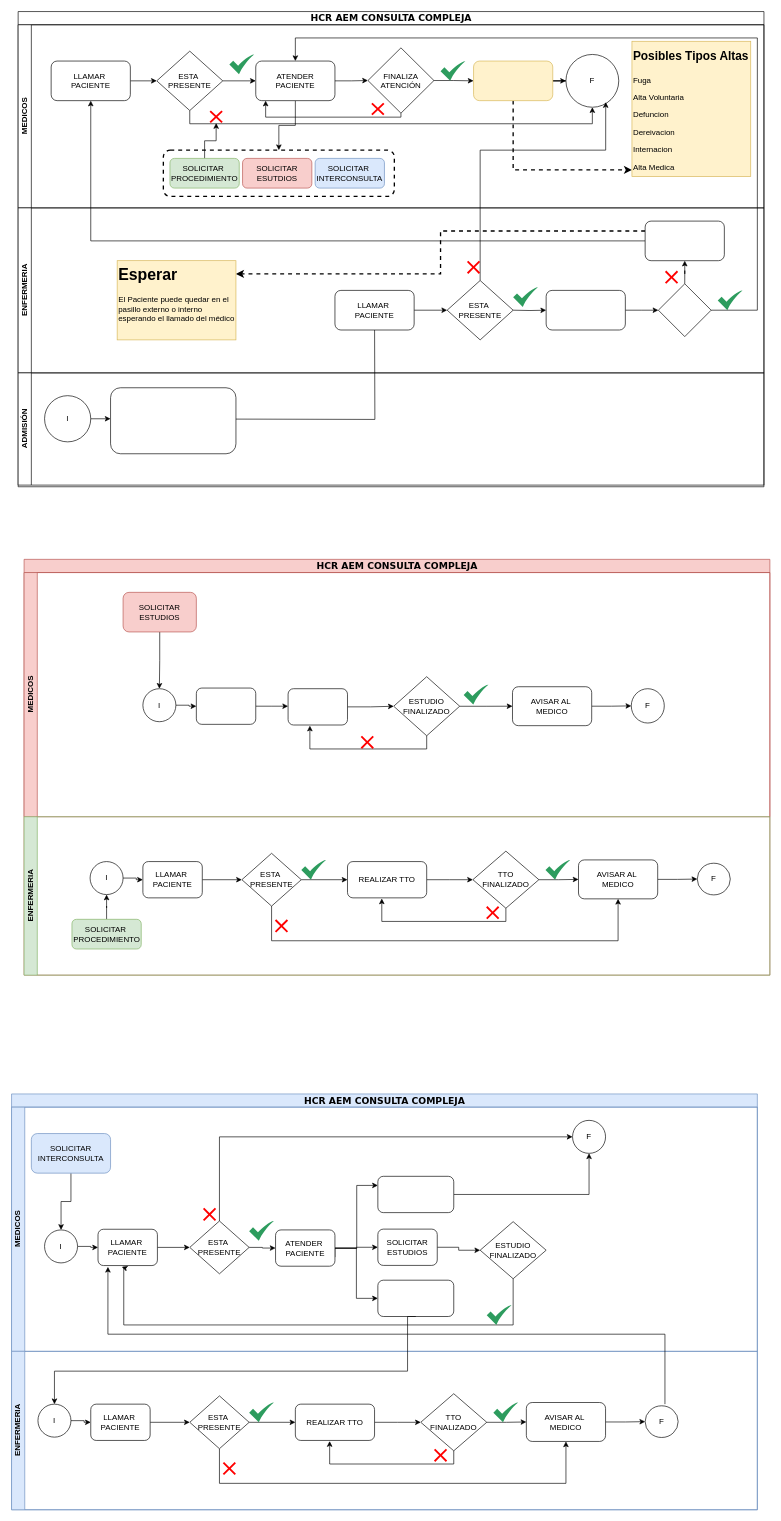
Some shapes in this 781 by 1521 pixel diagram are drawn without their labels. Each missing label, with the centre of its shape:
ESPERAR ATENCION MEDICA: point (684, 240)
ESPERAR ESTUDIO: point (317, 706)
FINALIZA INTERCONSULTA: point (415, 1194)
FINALIZAR ATENCIÓN: point (513, 80)
REALIZAR TRIAJE: point (585, 310)
RECEPCIONAR PACIENTES ANOTAR MOTIVO DE CONSULTA REFERIDO POR EL PACIENTE: point (173, 420)
Shocroom: point (684, 310)
SOLICITAR ESTUDIO: point (226, 705)
SOLICITAR PROCEDIMIENTOS: point (415, 1298)
